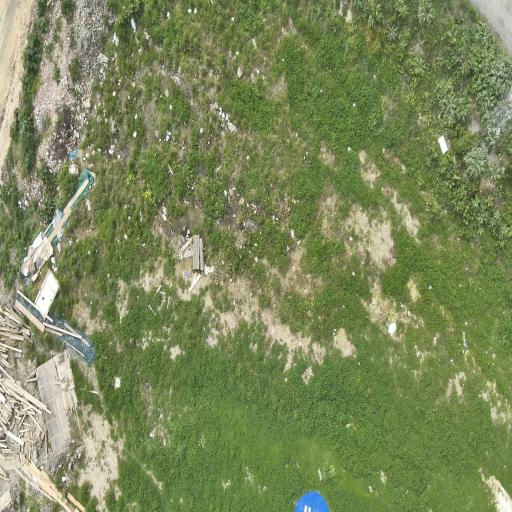uap: (295, 491, 329, 512)
